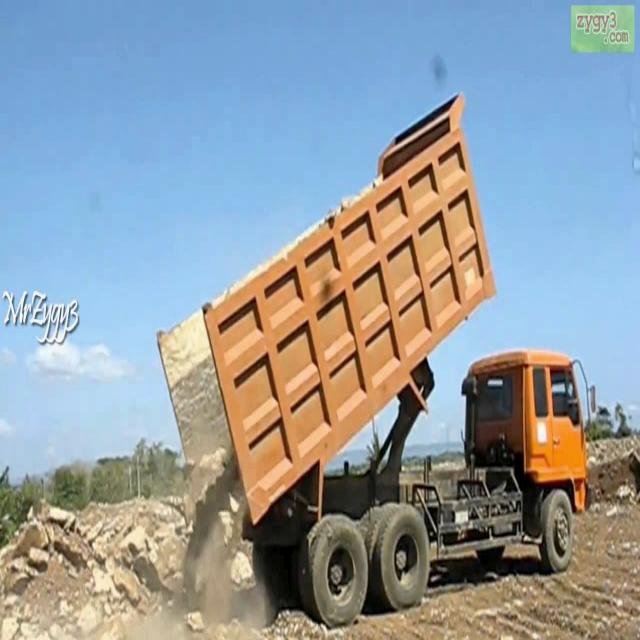truck: (159, 94, 589, 640)
